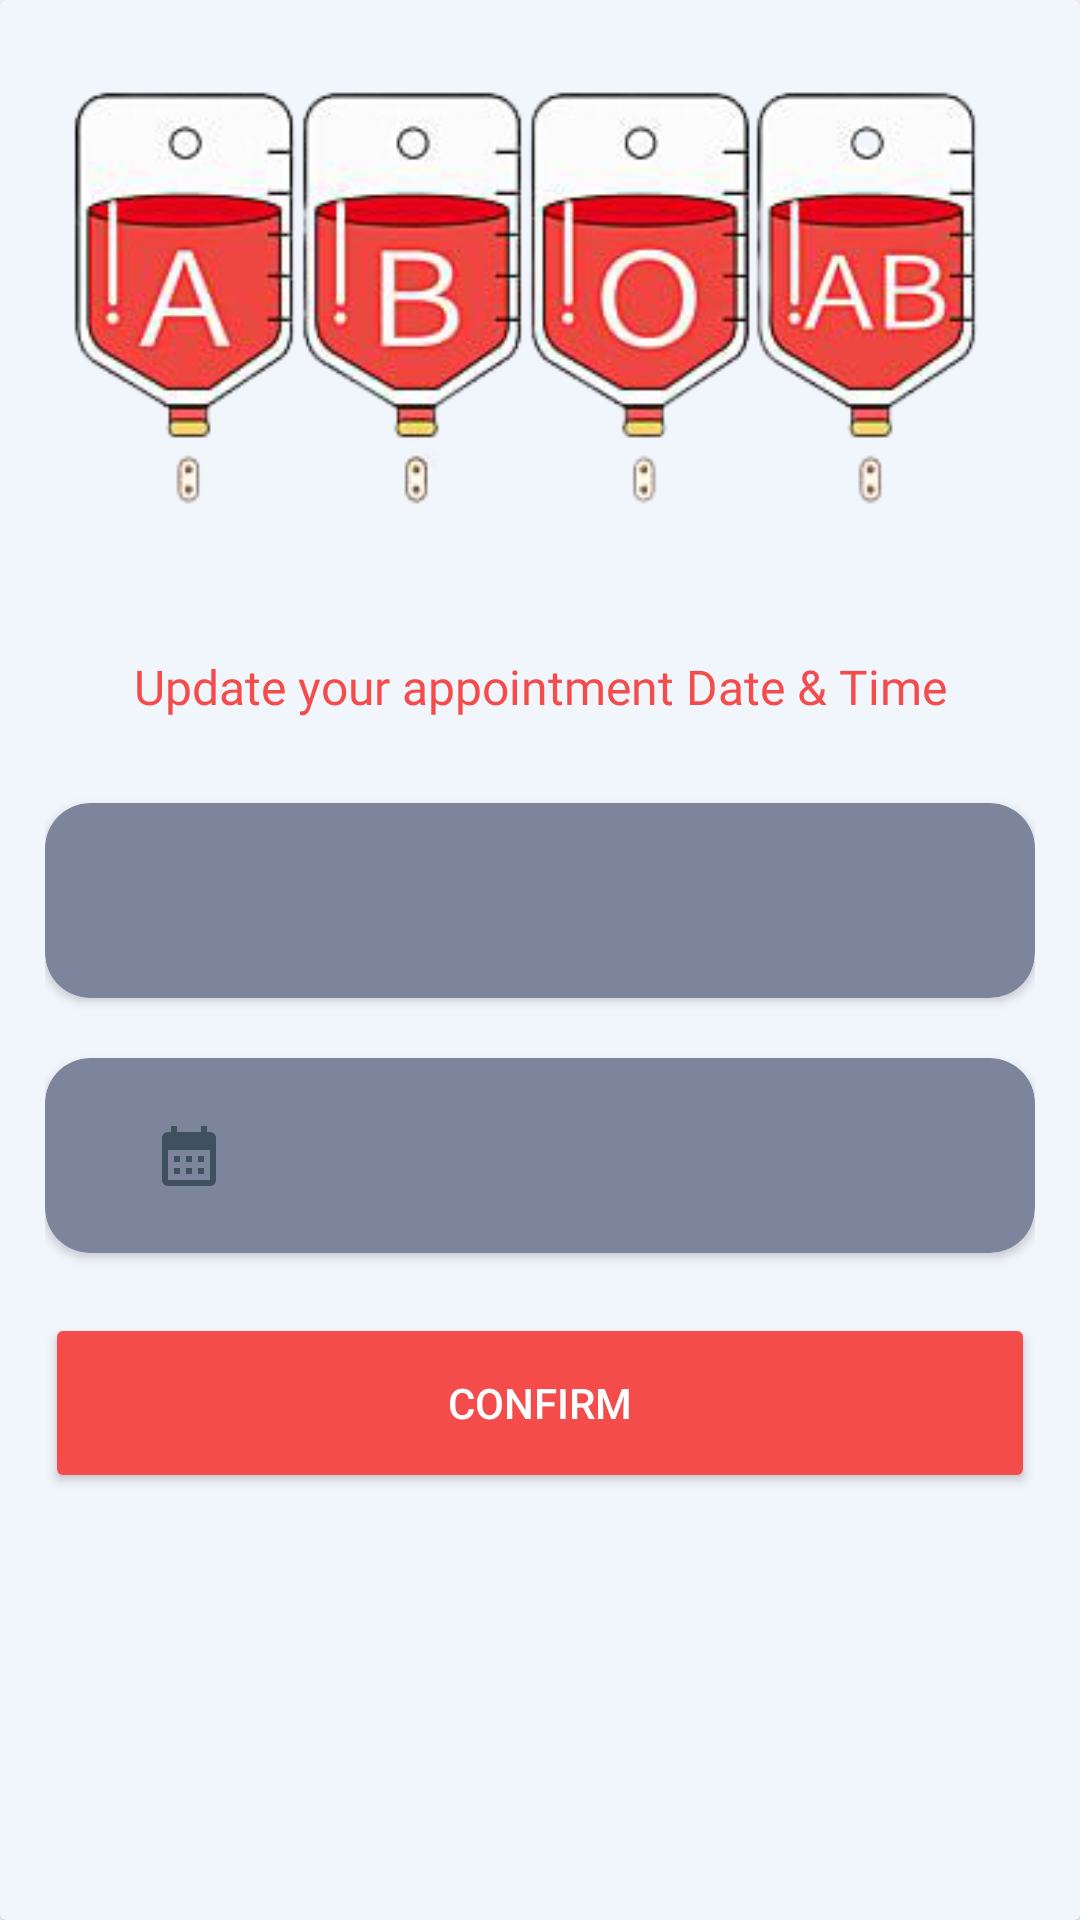

Screen size 1080 x 1920. Icon name, then its center in pixels as [x,y]:
calendar month: [189,1155]
